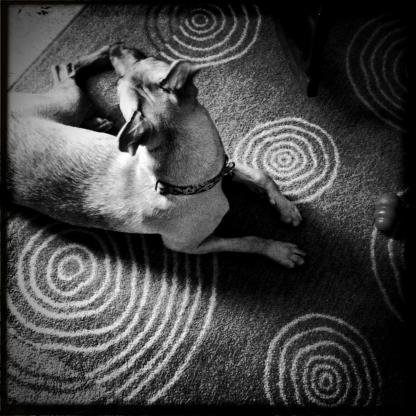Dog: (8, 43, 306, 269)
